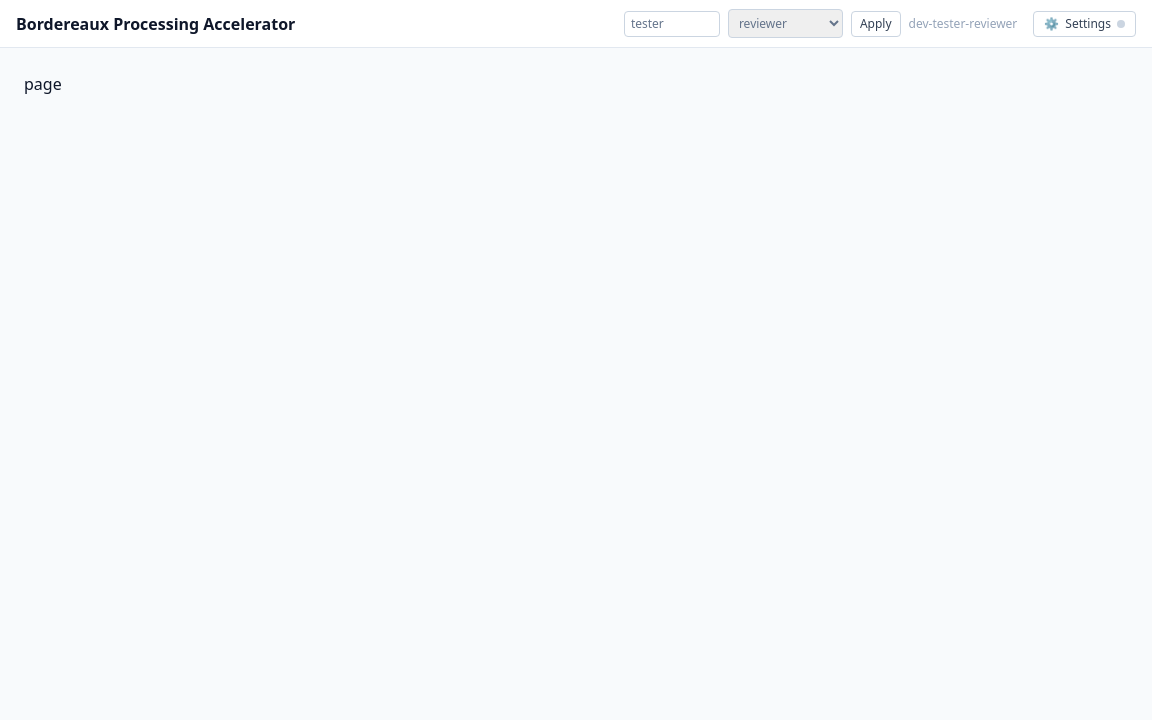
Settings -> AI connection › verifies, saves, clears the field and never displays the key again
Click the button "⚙ Settings". click: (1085,24)
box: [1033, 10, 1136, 36]
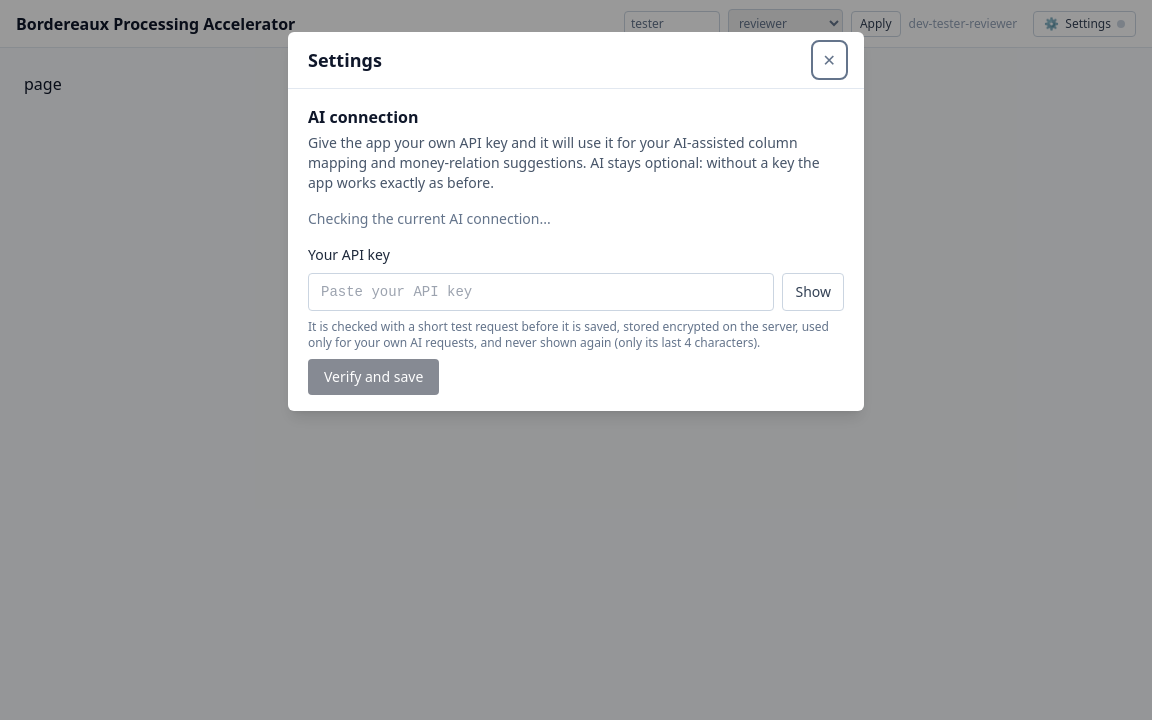
Type "sk-secret-1234567890-wxyz" into the password field labelled "Your API key". click: (541,292)
box: [308, 273, 774, 311]
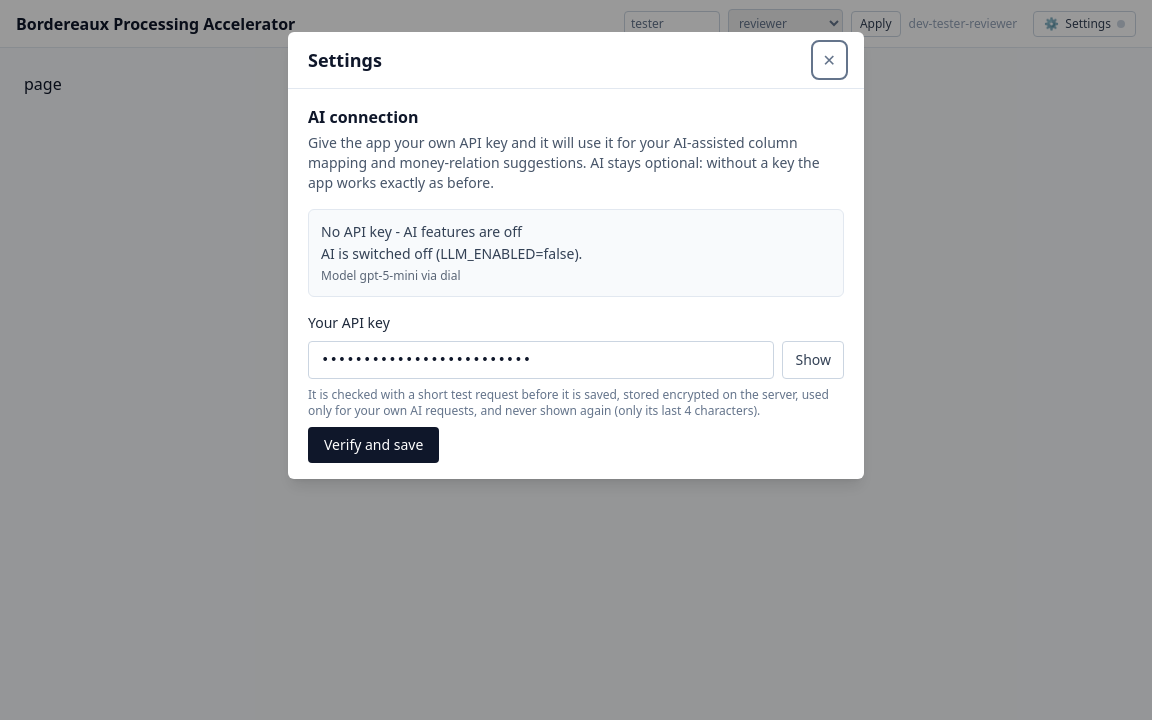
Click the button "Verify and save". click: (374,445)
box: [308, 427, 439, 463]
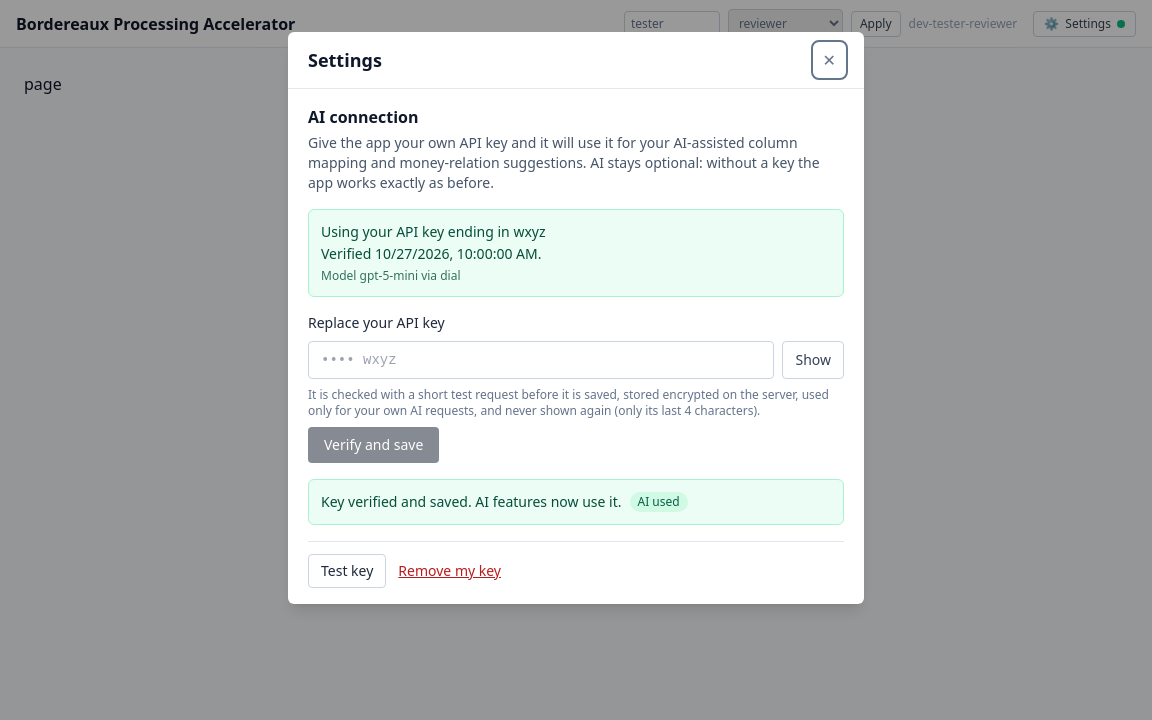
Expected: the text "Key verified and saved. AI features now use it." is shown, [321, 492, 622, 512]
Expected: the password field labelled "your API key" is empty, [308, 341, 774, 379]
Expected: the text "Using your API key ending in wxyz" is shown, [321, 222, 546, 241]
